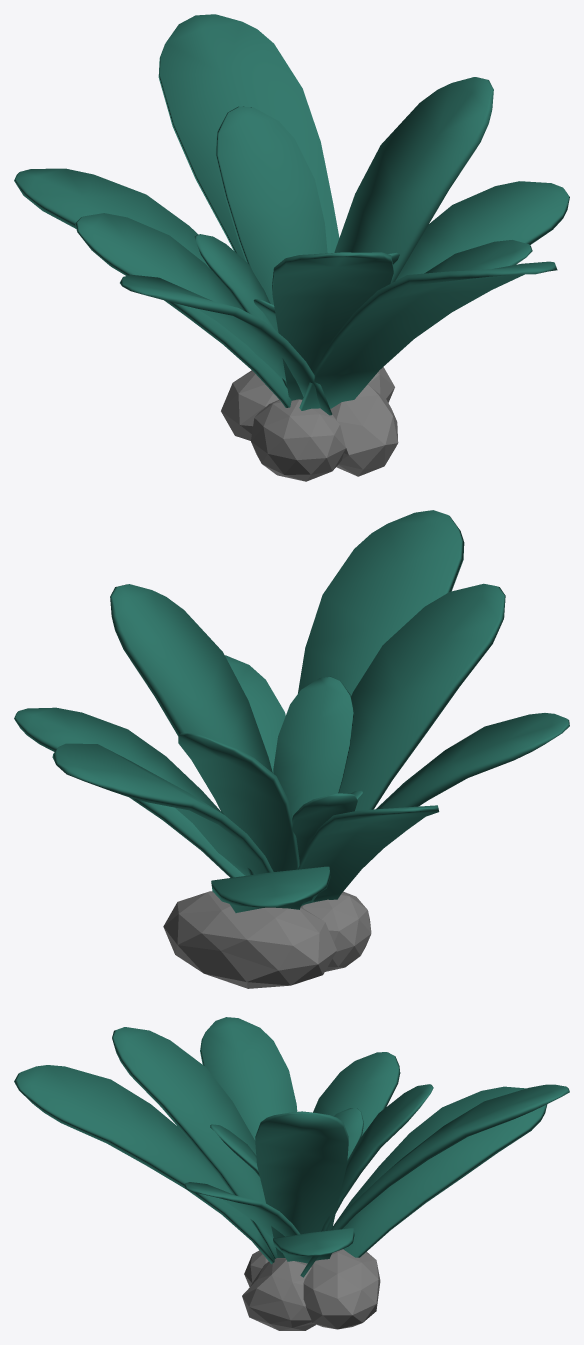
Rendered from Grass.fbx.
3 renders of one model, top to bottom at view 1: azimuth 30°, elevation 25°; view 2: azimuth 150°, elevation 25°; view 3: azimuth 270°, elevation 25°, orthographic. The views are drawn at different scales.
Parts seen in each view (by area): view 1: Stone.012; view 2: Stone.012; view 3: Stone.012.
Boxes of the visible parts, x1,y1,x2,y2 form: Stone.012: (14, 14, 569, 481); Stone.012: (14, 510, 569, 988); Stone.012: (14, 1017, 569, 1330).
Size of the model in its own units: 253 by 169 by 315.
